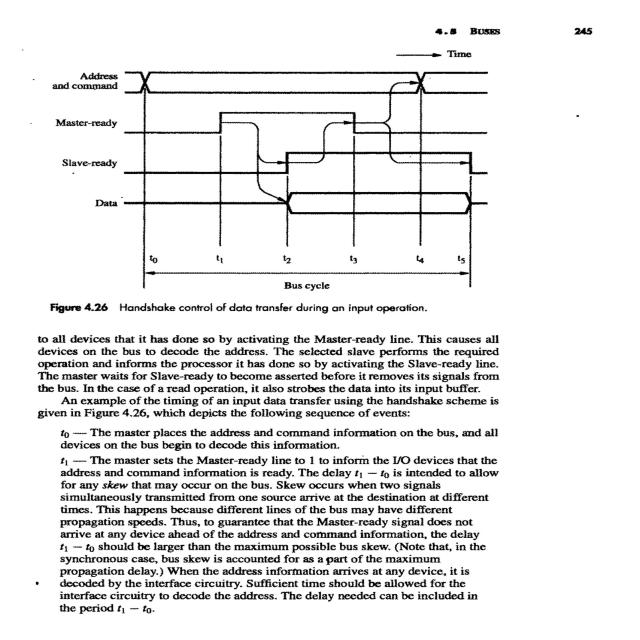diagram: (40, 33, 534, 311)
